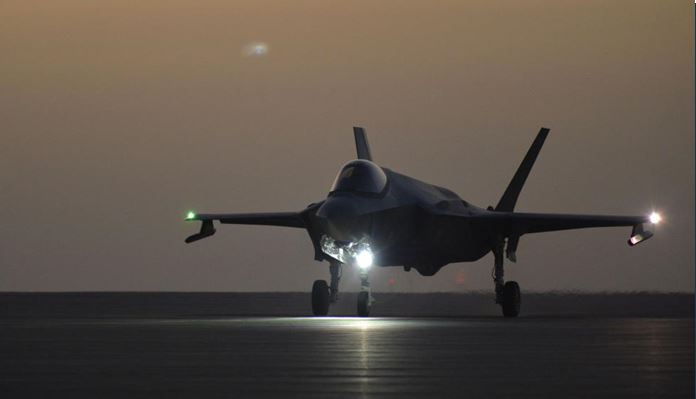F-35 Lightning: (165, 121, 668, 326)
